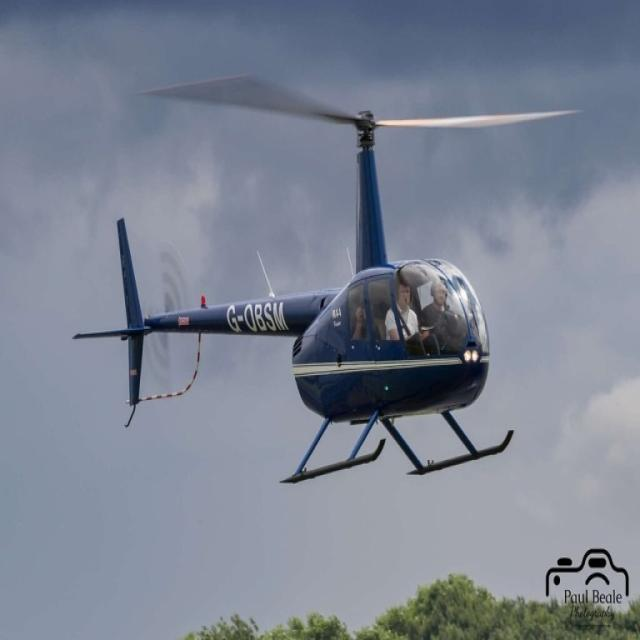CIV_HELO: (72, 104, 518, 491)
